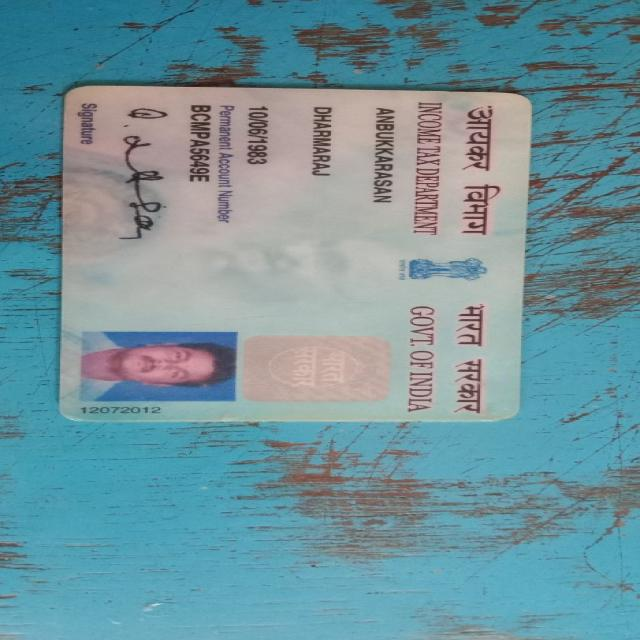pan_card: (63, 84, 537, 424)
